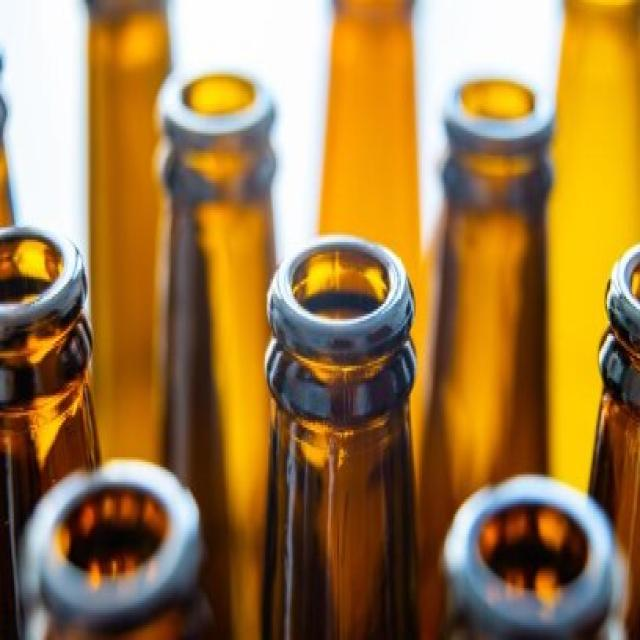electronic: (155, 62, 289, 640), (420, 73, 552, 640), (259, 239, 420, 640), (0, 207, 100, 640), (22, 449, 225, 640), (439, 469, 618, 640)
